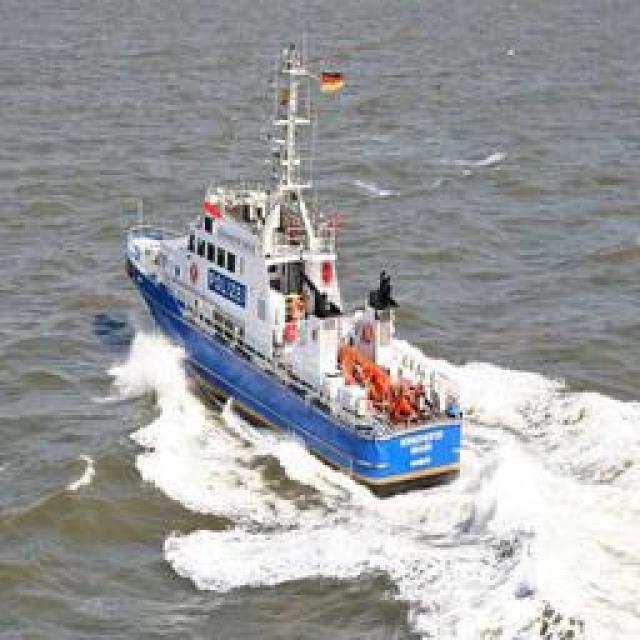CIV_Ship: (125, 21, 478, 491)
